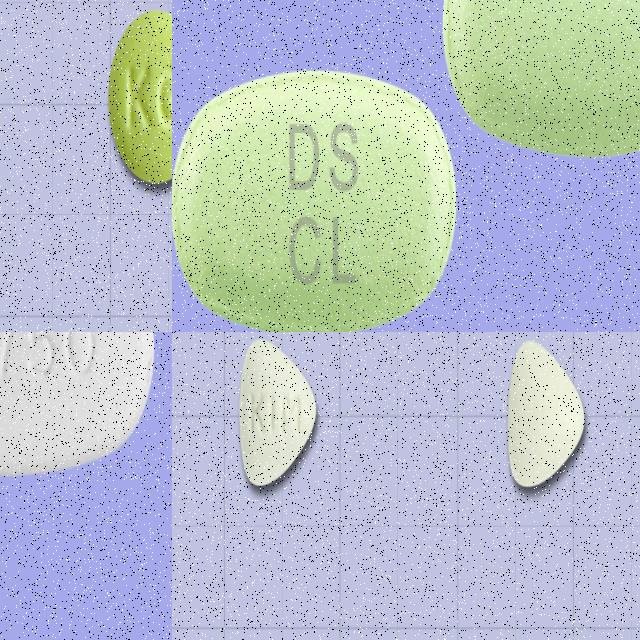Famvir -750mg: (0, 332, 155, 476)
Globit: (107, 8, 172, 184)
Heracin: (172, 66, 457, 332), (441, 0, 640, 156)
Kimara: (506, 341, 586, 490), (239, 338, 318, 488)
